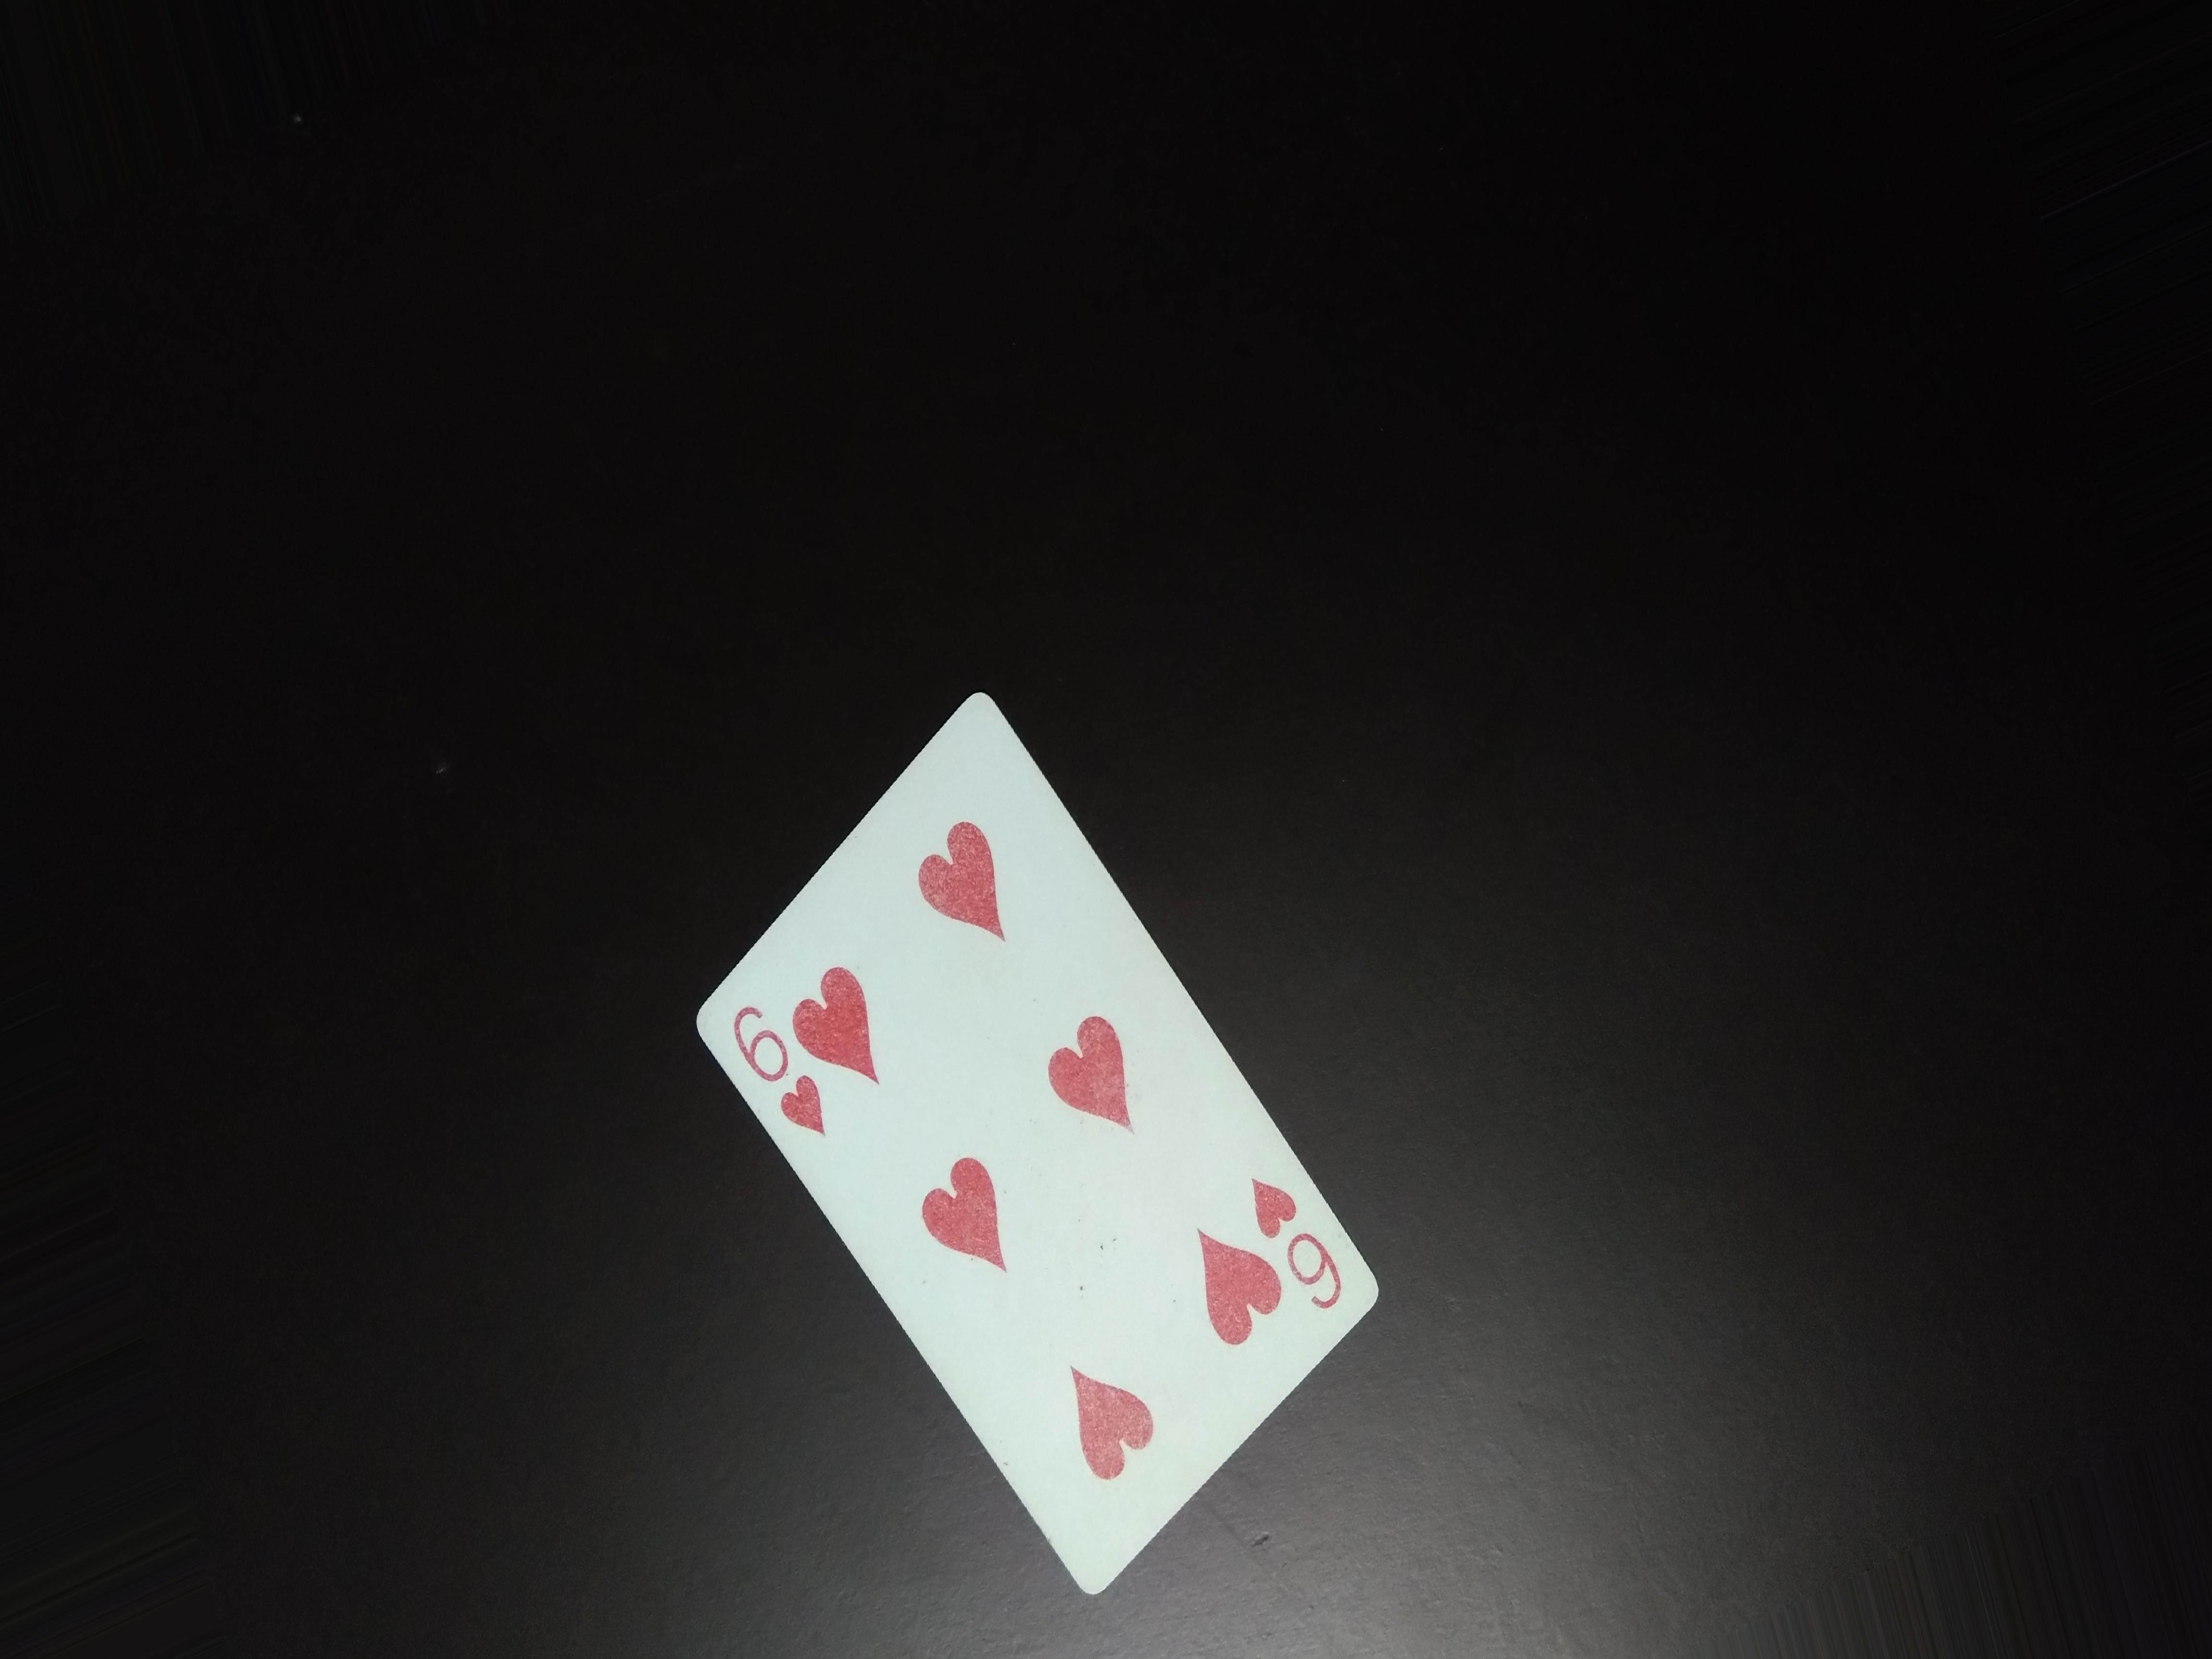6H: (726, 1006, 833, 1122)
